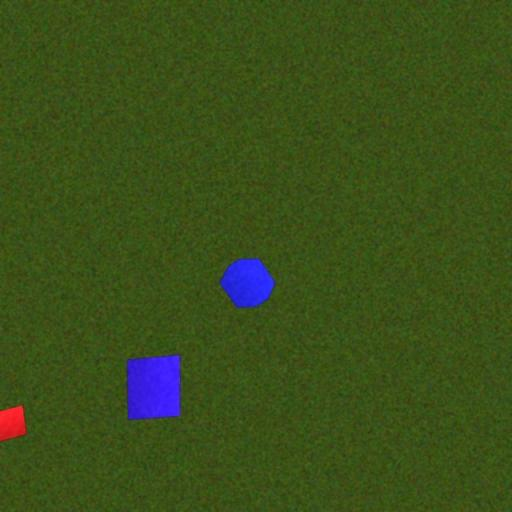BLUE_SQUARE: (126, 354, 182, 420)
RED_SQUARE: (0, 404, 28, 443)
